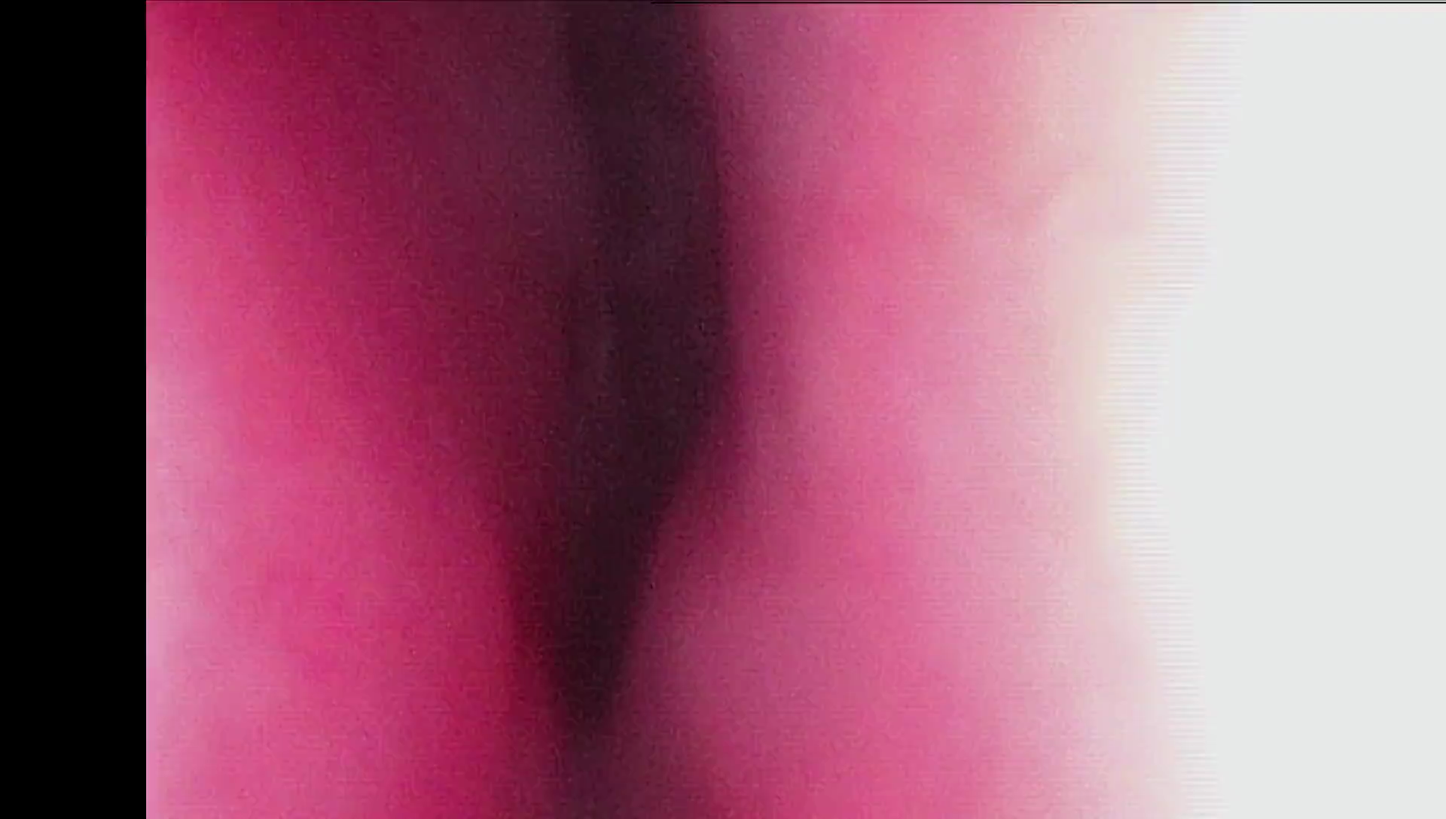close_wall: (856, 10, 1446, 819), (151, 238, 396, 819)
next: (547, 49, 770, 412), (460, 477, 736, 764), (508, 284, 776, 572)
